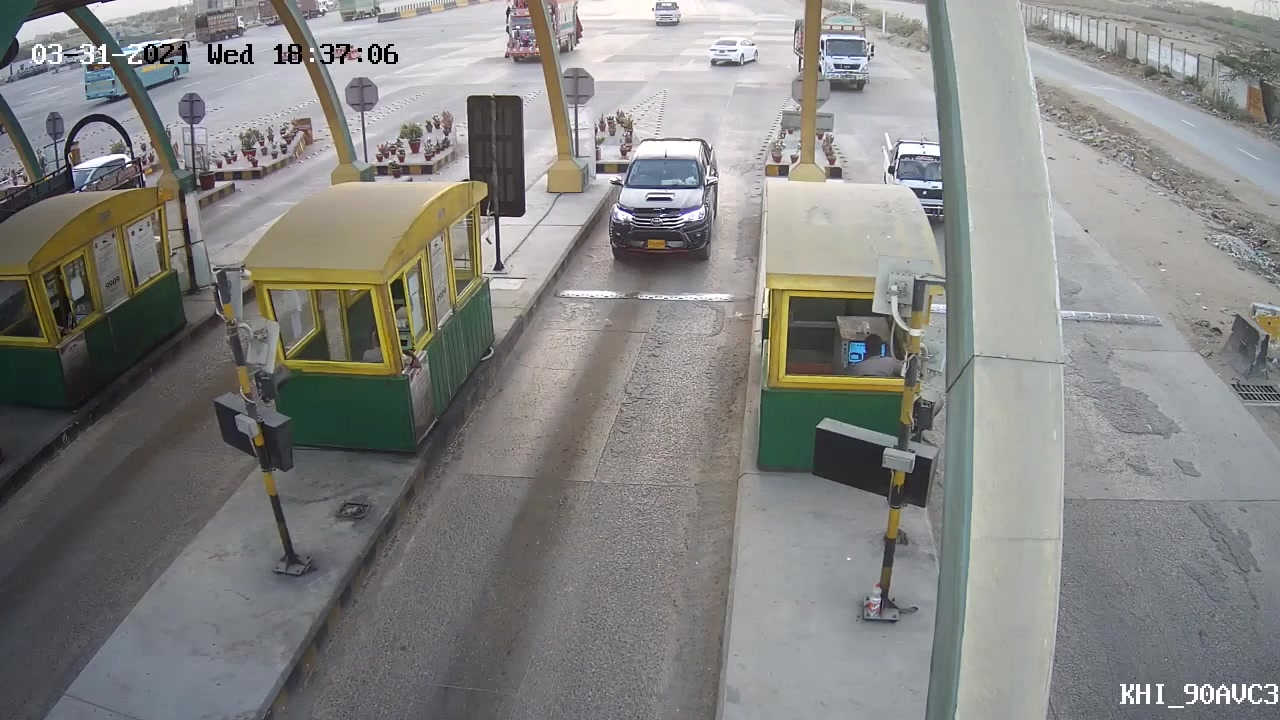F1: (599, 128, 732, 266)
